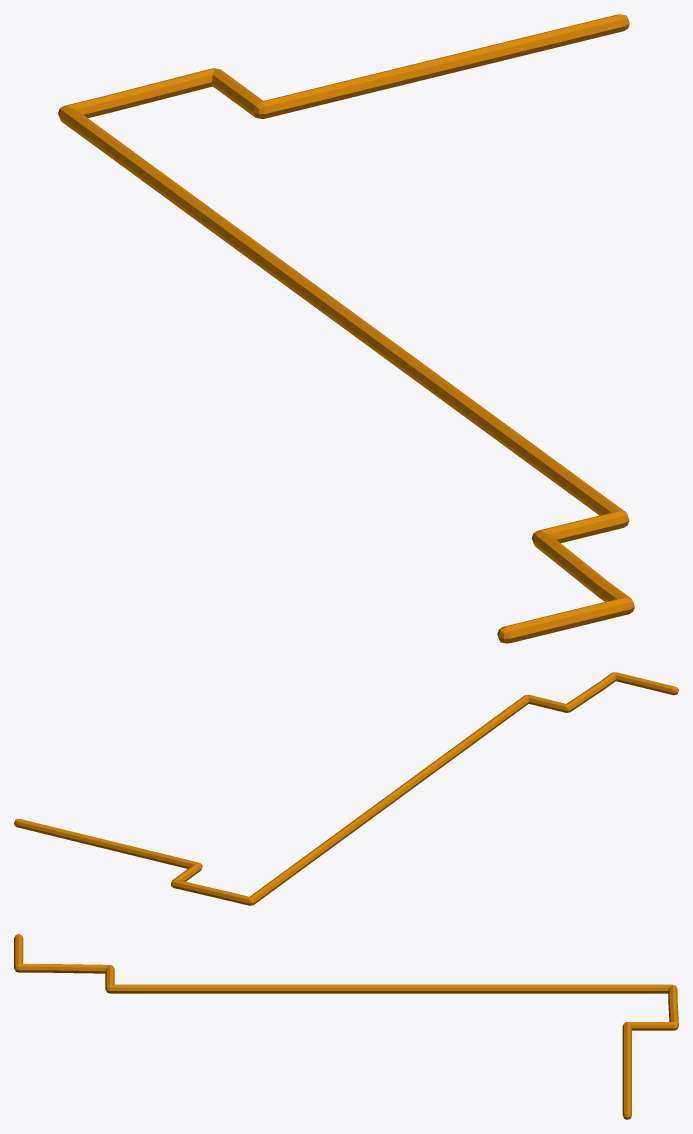
3 renders of one model, top to bottom at view 1: azimuth 30°, elevation 25°; view 2: azimuth 150°, elevation 25°; view 3: azimuth 270°, elevation 25°, orthographic. The views are drawn at different scales.
Bounding box in the file's own units: 913 × 20 × 1418.
